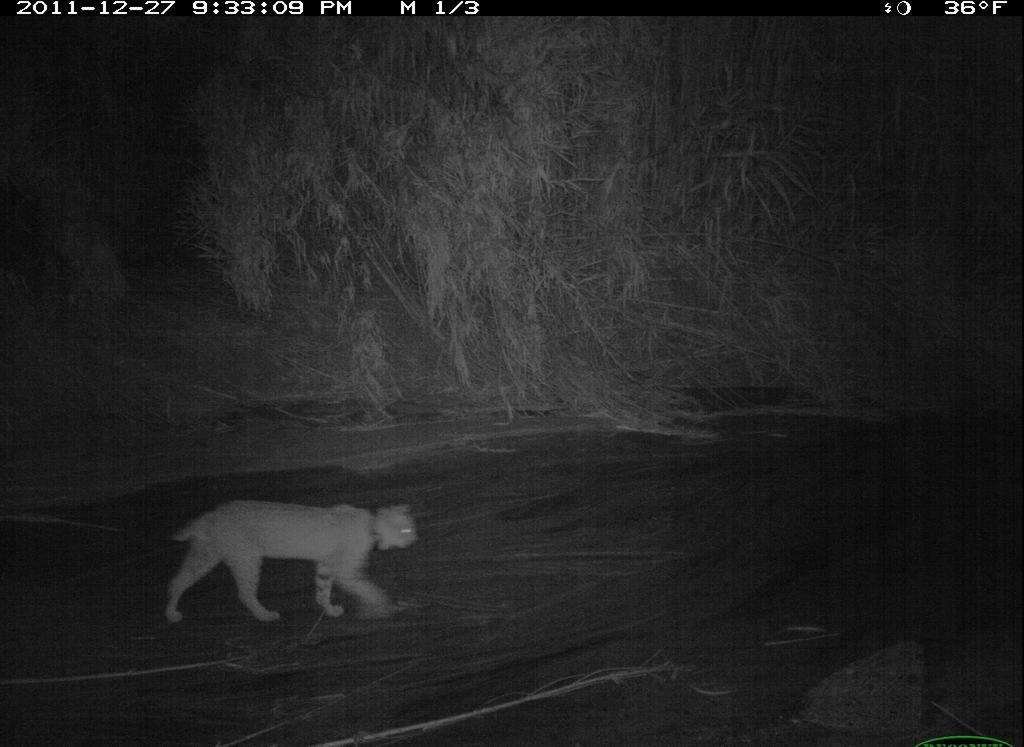bobcat: (140, 466, 446, 637)
